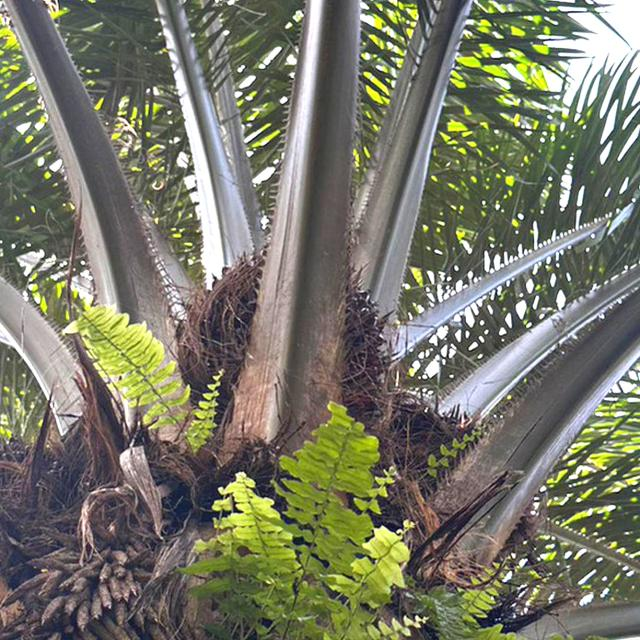ripe: (163, 226, 402, 434)
